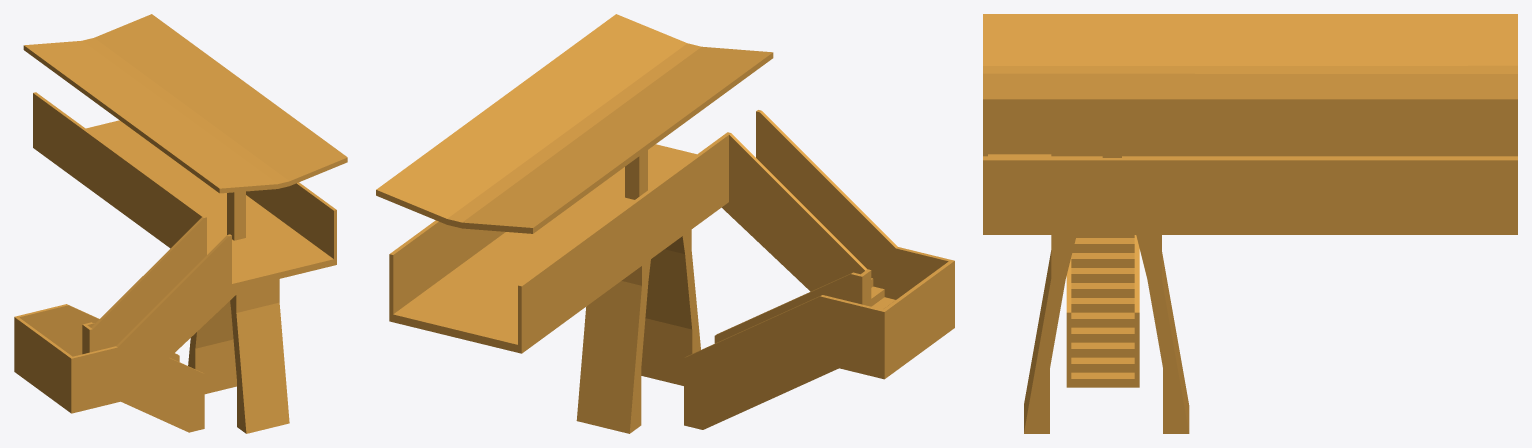
The model's file is trainstation-oberpass.glb.
The picture shows the model from 3 angles, left to right: view 1: azimuth 30°, elevation 25°; view 2: azimuth 150°, elevation 25°; view 3: azimuth 270°, elevation 25°; orthographic projection. The views are drawn at different scales.
Parts seen in each view (by area): view 1: trainstation-oberpass; view 2: trainstation-oberpass; view 3: trainstation-oberpass.
Boxes of the visible parts, x1=… form: trainstation-oberpass: x1=14, y1=14, x2=347, y2=433; trainstation-oberpass: x1=376, y1=14, x2=954, y2=433; trainstation-oberpass: x1=983, y1=14, x2=1517, y2=433.
Size of the model in its own units: 8.95 by 8.25 by 10.99.
